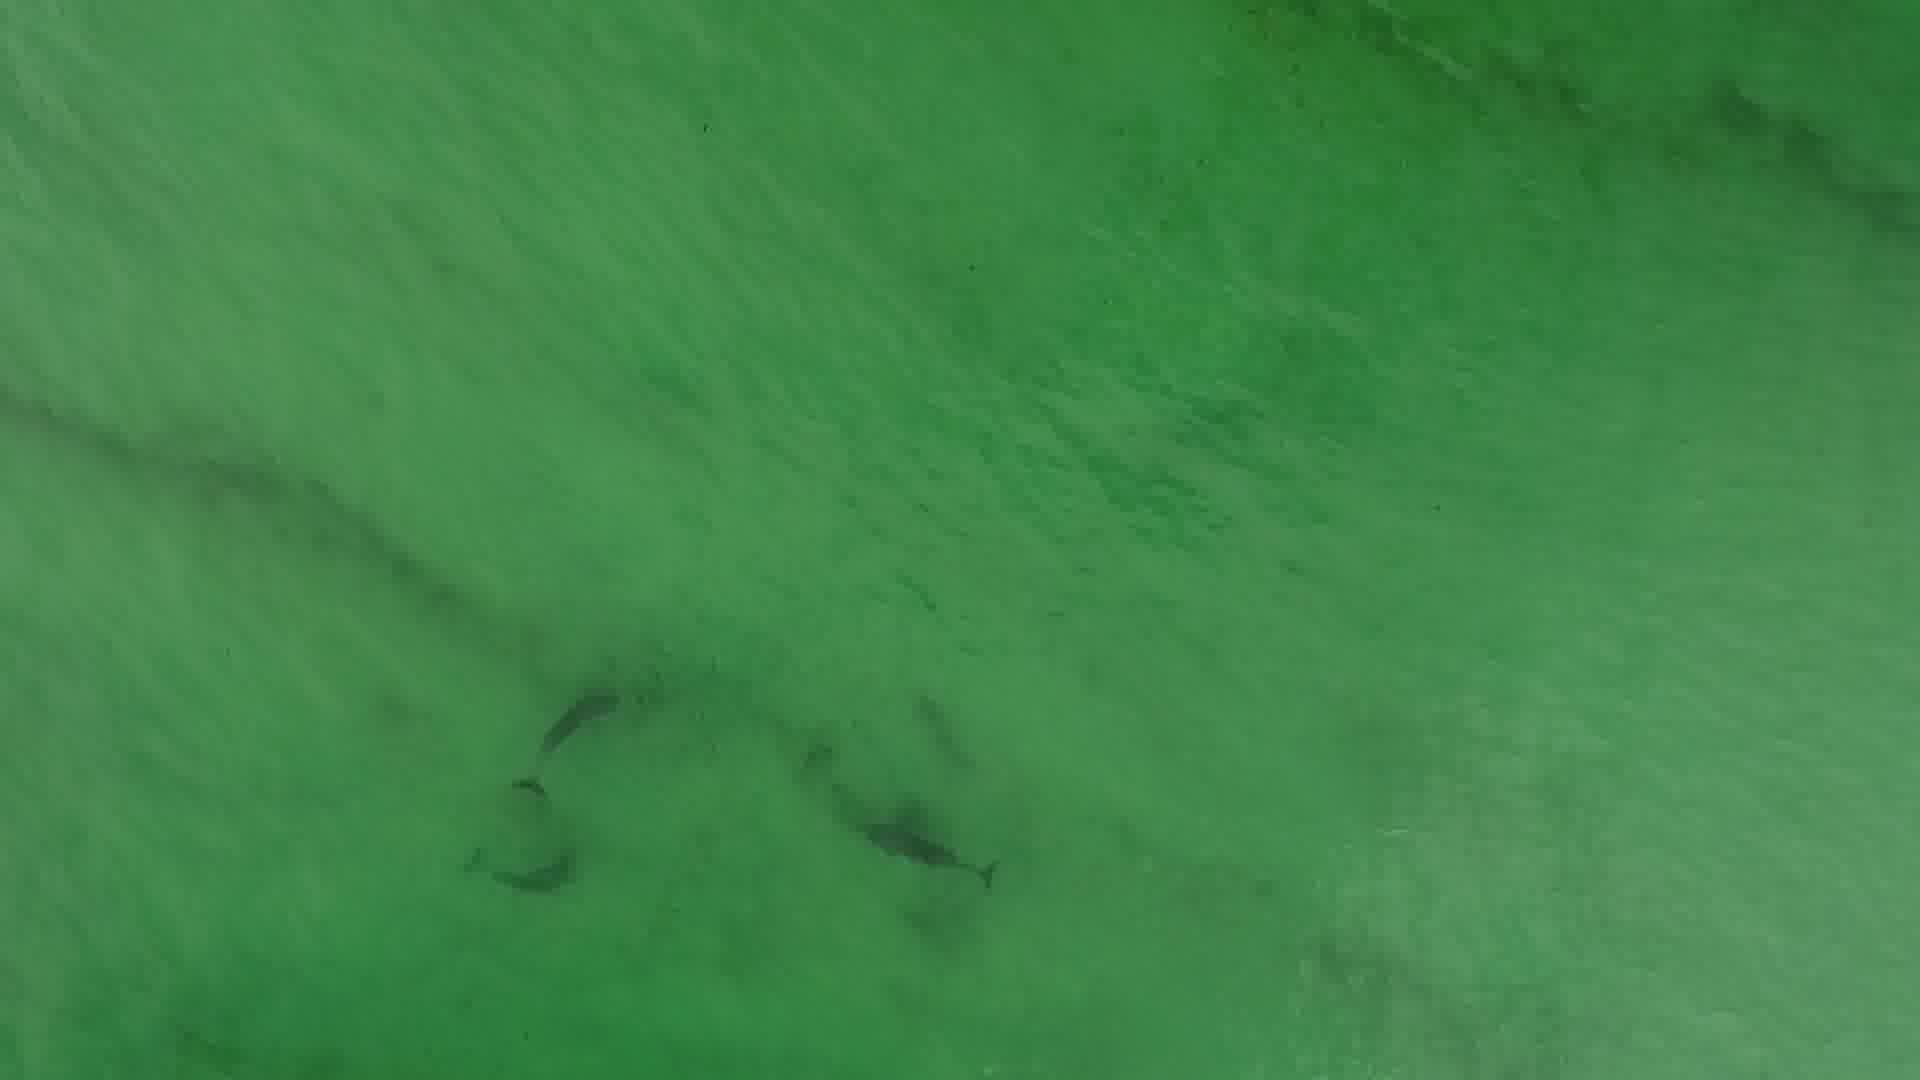dolphin: (833, 783, 1017, 911), (480, 651, 641, 765)
